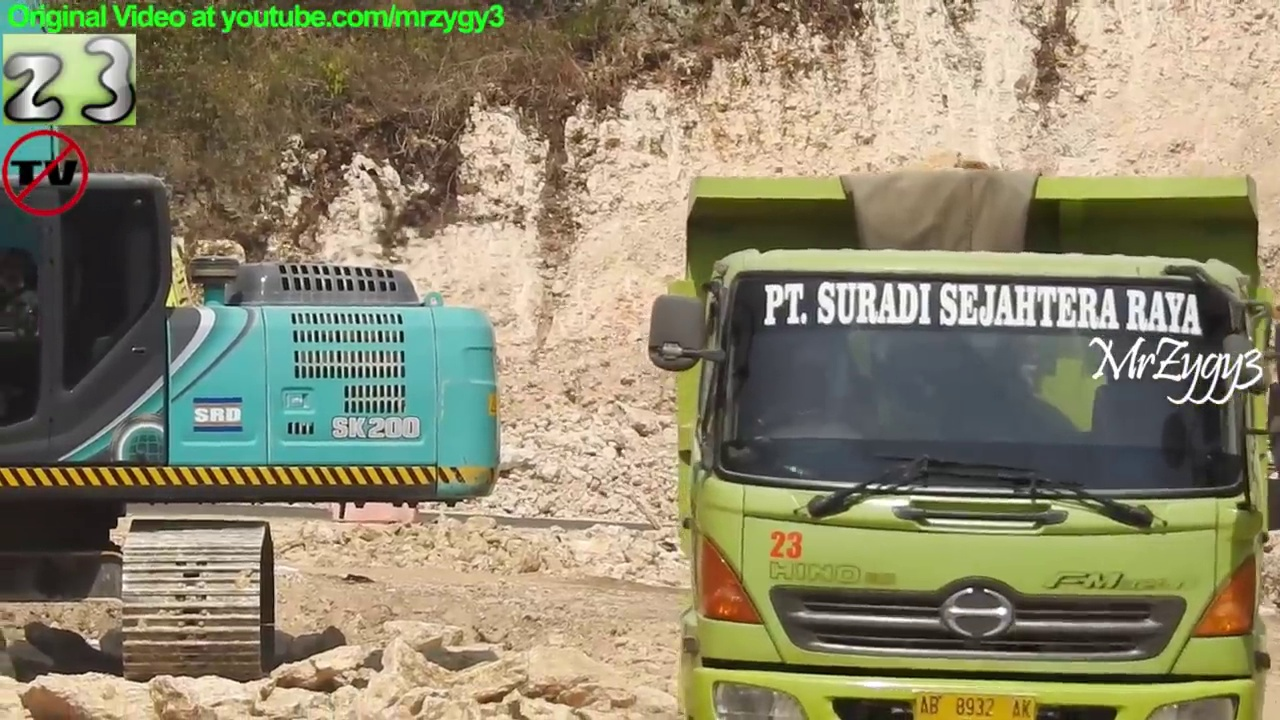excavator: (1, 1, 505, 693)
truck: (644, 157, 1280, 720)
